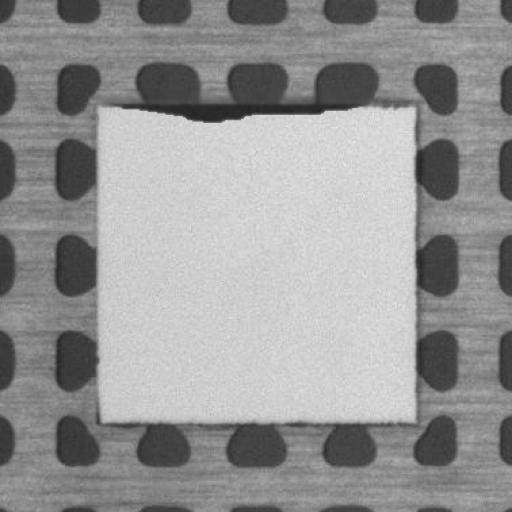DIE_BROKEN: (115, 95, 351, 127)
